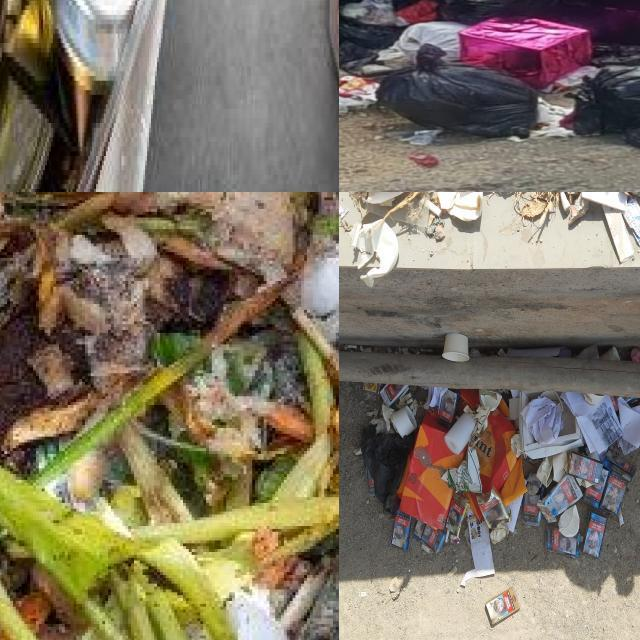Cig_pack: (537, 474, 582, 523), (485, 587, 520, 626), (476, 490, 510, 529), (601, 449, 637, 482), (546, 525, 581, 558), (582, 513, 607, 558), (446, 494, 469, 542), (412, 521, 446, 552), (569, 453, 603, 484), (601, 473, 626, 515), (584, 469, 608, 507), (392, 511, 412, 550), (438, 389, 457, 428), (380, 383, 409, 407), (524, 494, 542, 527)
Garbage: (0, 192, 339, 640), (360, 380, 640, 585), (339, 0, 640, 147), (443, 333, 476, 362), (392, 517, 412, 548)
Plastic_Bag: (380, 45, 538, 137), (460, 17, 590, 89), (361, 426, 418, 513), (574, 65, 640, 133), (561, 0, 640, 43), (393, 20, 468, 60), (438, 0, 557, 24), (387, 192, 431, 228), (364, 192, 411, 217), (459, 436, 460, 438)
Thermocol: (444, 412, 475, 455)
contaminated_waste: (48, 0, 137, 82)
